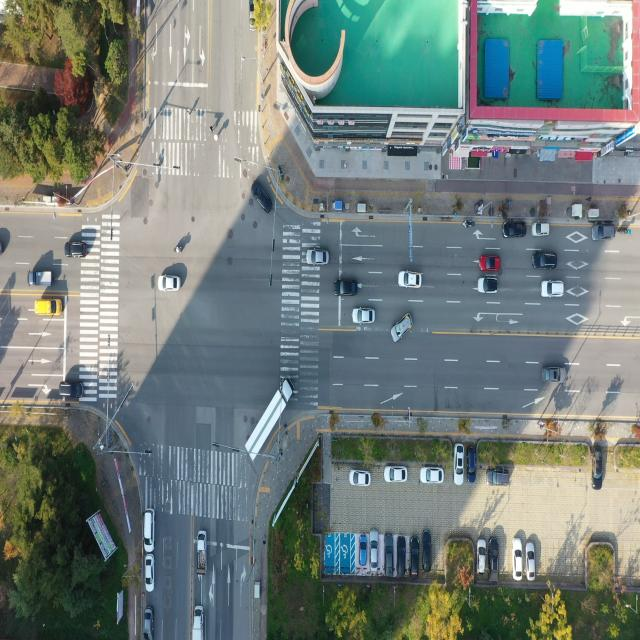car: (142, 508, 157, 554), (252, 185, 274, 215), (591, 445, 604, 495), (391, 314, 413, 343), (488, 536, 500, 584), (486, 464, 510, 487), (34, 297, 63, 316), (454, 443, 465, 485), (525, 541, 536, 582), (512, 536, 522, 581), (419, 466, 444, 484), (59, 382, 85, 399), (410, 534, 420, 578), (335, 280, 359, 298), (400, 271, 424, 289), (370, 525, 379, 573), (466, 444, 476, 486), (422, 530, 432, 572), (543, 280, 565, 299), (533, 252, 556, 270), (396, 536, 406, 576), (160, 275, 182, 293), (64, 242, 87, 259), (385, 466, 407, 483), (144, 555, 154, 592), (348, 471, 371, 487), (192, 607, 203, 640), (481, 254, 501, 272), (479, 277, 499, 295), (353, 309, 374, 326), (307, 250, 329, 266), (592, 224, 614, 240), (505, 221, 527, 237), (477, 538, 486, 576), (385, 536, 393, 577), (143, 608, 153, 640), (542, 366, 561, 382), (358, 535, 366, 567), (532, 222, 549, 236)
medium_truck: (248, 378, 300, 462)
small_truck: (197, 528, 208, 576), (26, 269, 52, 289)
